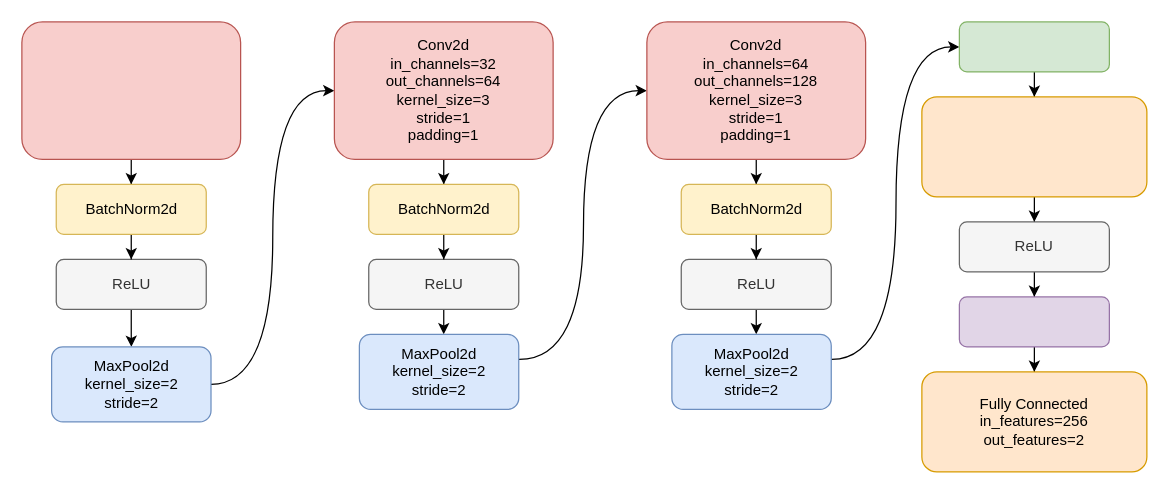
The diagram is 1169 pixels wide and 494 high, and some of its shapes have lost their labels. The shapes that lost their labels are listed below. From the top down, each one's centre as x and y in pixels, then its label:
At pixel 1033 46: "Flatten".
At pixel 131 90: "Conv2d in_channels=1 out_channels=32 kernel_size=3 stride=1 padding=1".
At pixel 1034 146: "Fully Connected in_features=79 872 out_features=256".
At pixel 1033 321: "Dropout p = 0.3".
